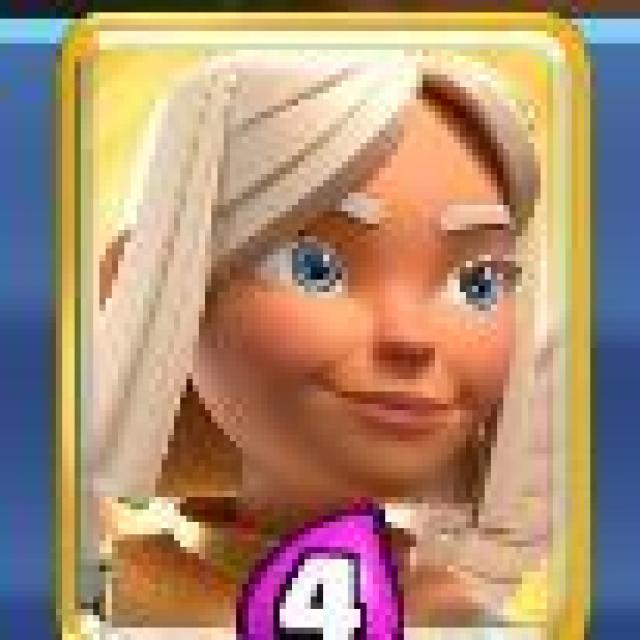Battle_Healer: (59, 11, 588, 640)
